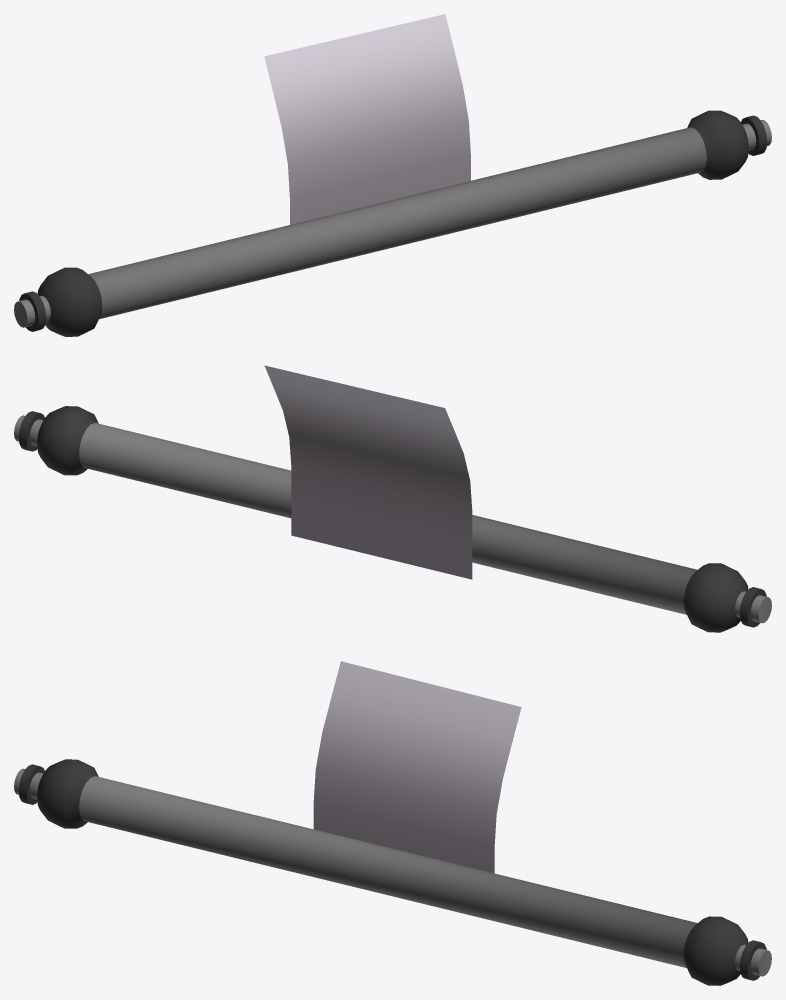
Rendered from Teclado_2.obj.
3 renders of one model, top to bottom at view 1: azimuth 30°, elevation 25°; view 2: azimuth 150°, elevation 25°; view 3: azimuth 330°, elevation 25°, orthographic.
Visible parts, largest first — view 1: Teclado2; view 2: Teclado2; view 3: Teclado2.
Boxes of the visible parts, bbox=[...] form: Teclado2: bbox=[14, 14, 771, 336]; Teclado2: bbox=[14, 365, 771, 632]; Teclado2: bbox=[14, 661, 771, 985].
Size of the model in its own units: 50.71 by 12.58 by 6.6.
Materials: 1 (1 with a texture image).
